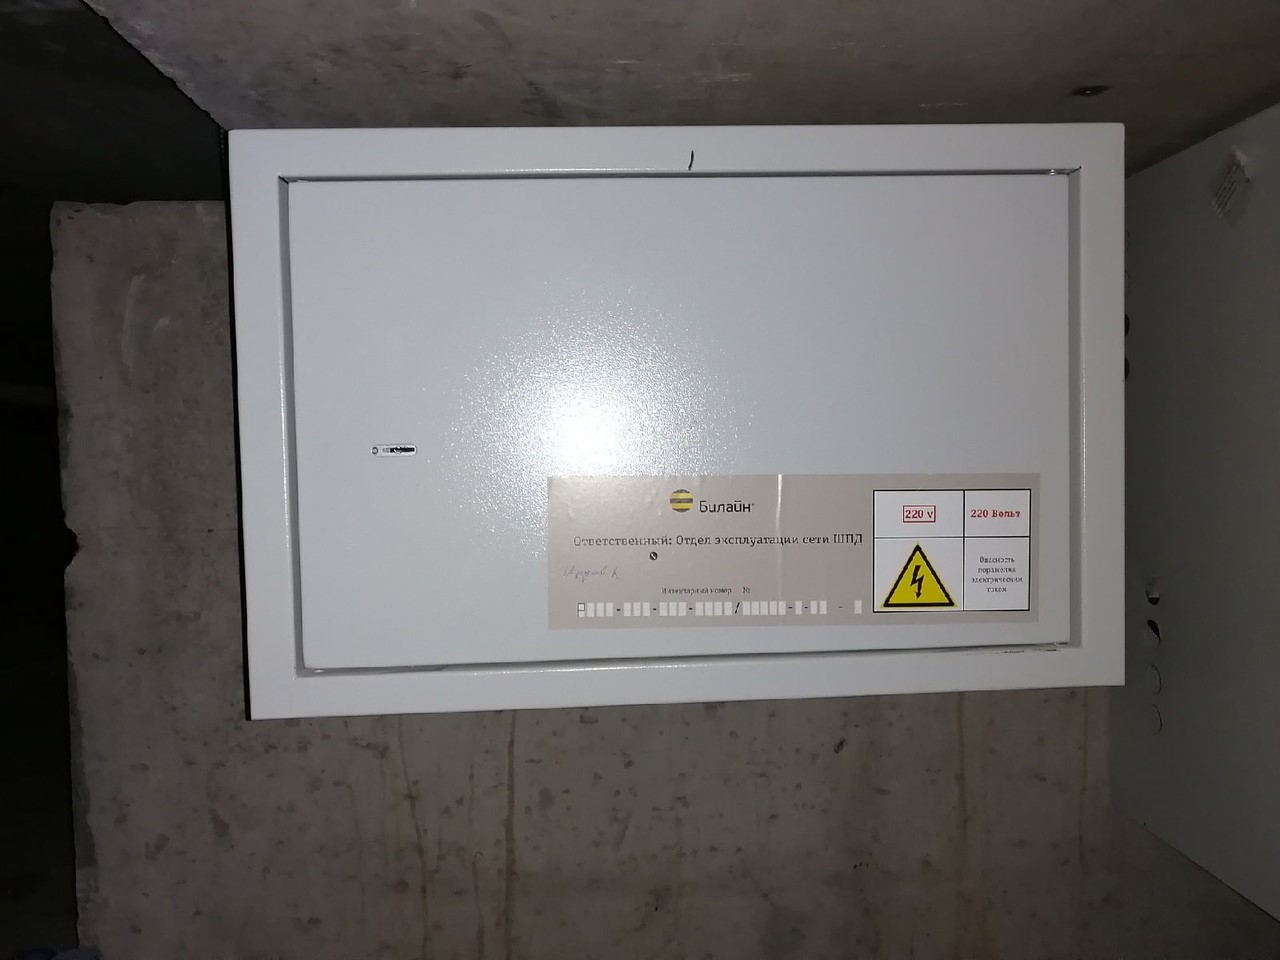shta-7m: (220, 109, 1148, 734)
